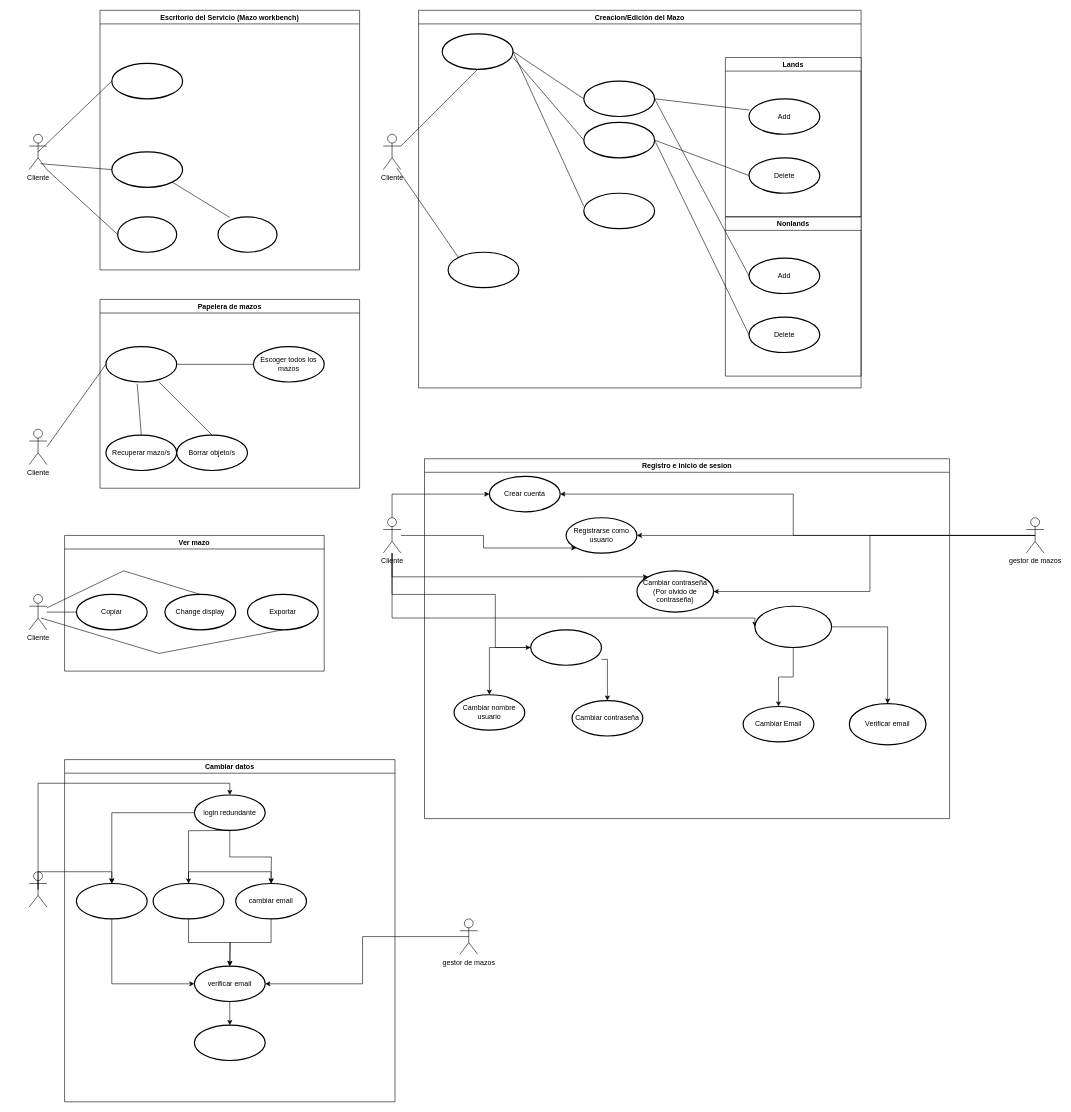
Some shapes in this 1071 by 1112 pixel diagram are drawn without their labels. The centre of each missing label's shape, as x and y in pixels:
"Añadir cartas" belongs at (x=619, y=98).
"cambiar contrasena" belongs at (x=112, y=901).
"Cambiar correo" belongs at (x=793, y=626).
"cambiar dato" belongs at (x=230, y=1042).
"cambiar nombre" belongs at (x=188, y=901).
"Crear" belongs at (x=477, y=51).
"Crear/Editar un mazo" belongs at (x=147, y=169).
"Eliminar cartas" belongs at (x=619, y=140).
"Eliminar mazos" belongs at (x=247, y=234).
"Escoger un mazo" belongs at (x=141, y=364).
"Gestor de Mazos (servicio)" belongs at (x=38, y=889).
"Guardar mazo" belongs at (x=483, y=269).
"Importar" belongs at (x=619, y=210).
"Iniciar sesion" belongs at (x=566, y=647).
"Mirar los mazos" belongs at (x=147, y=234).
"Registrar Usuario" belongs at (x=147, y=81).
